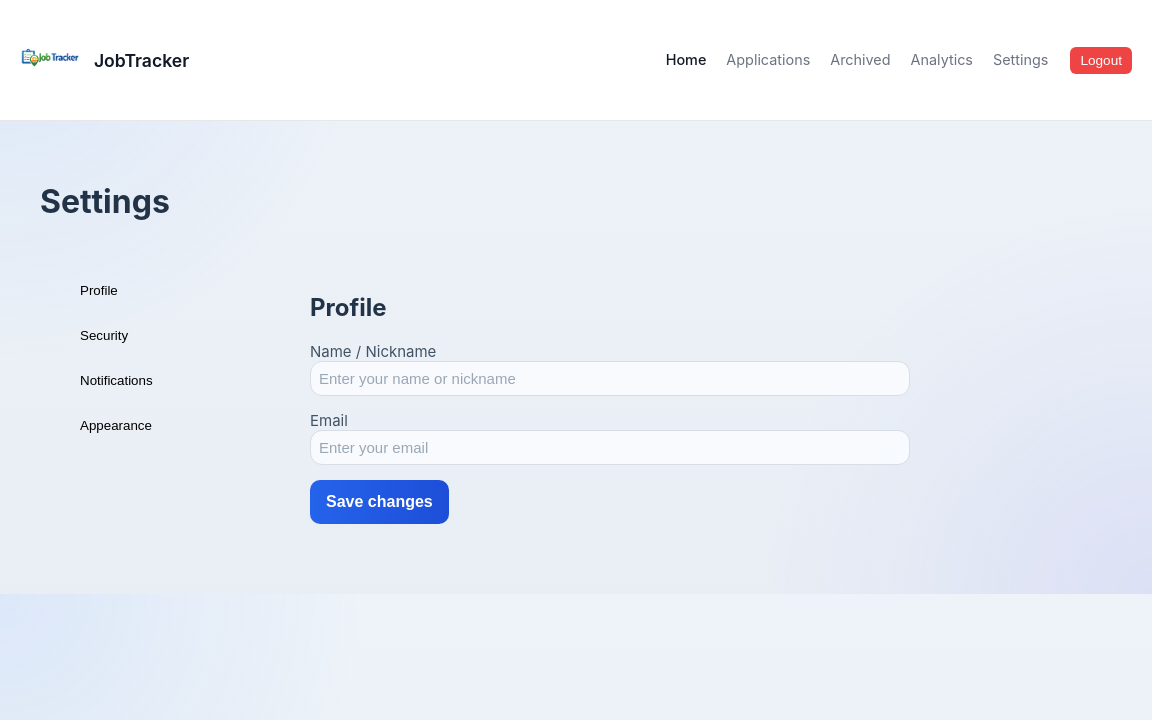
Settings Component › should render the theme selection buttons
Expected: the field with placeholder "Enter your name or nickname" is shown, [310, 361, 910, 396]
Expected: the field with placeholder "Enter your email" is shown, [310, 430, 910, 465]
Click the button "Appearance". click: coordinates (180, 425)
box: [70, 408, 290, 443]
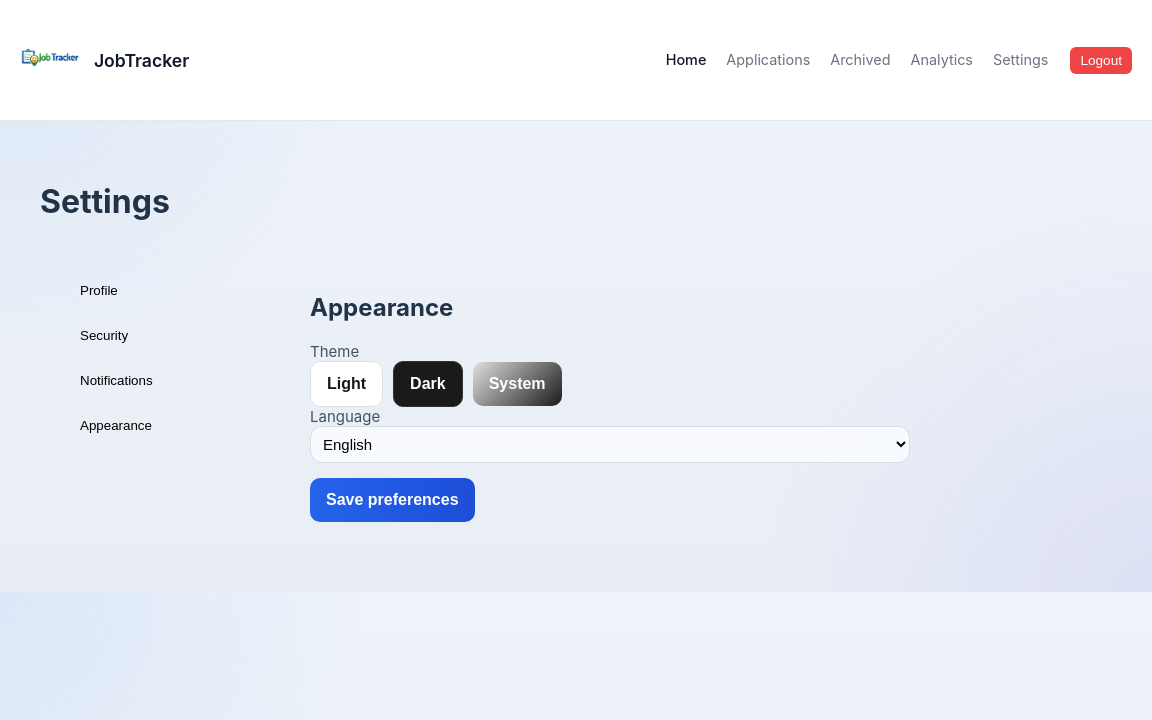
Now the button "Light" is shown, box [310, 361, 383, 407]
Now the button "Dark" is shown, box [393, 361, 463, 407]
Now the button "System" is shown, box [473, 362, 562, 406]
